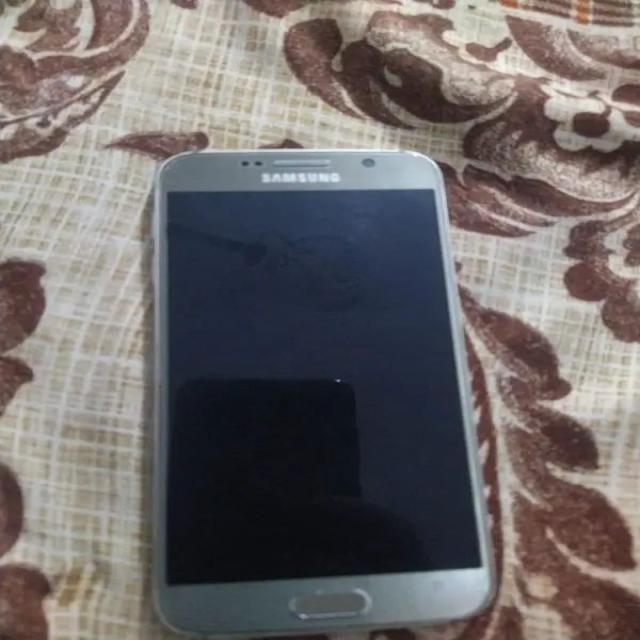electronic: (149, 148, 498, 638)
